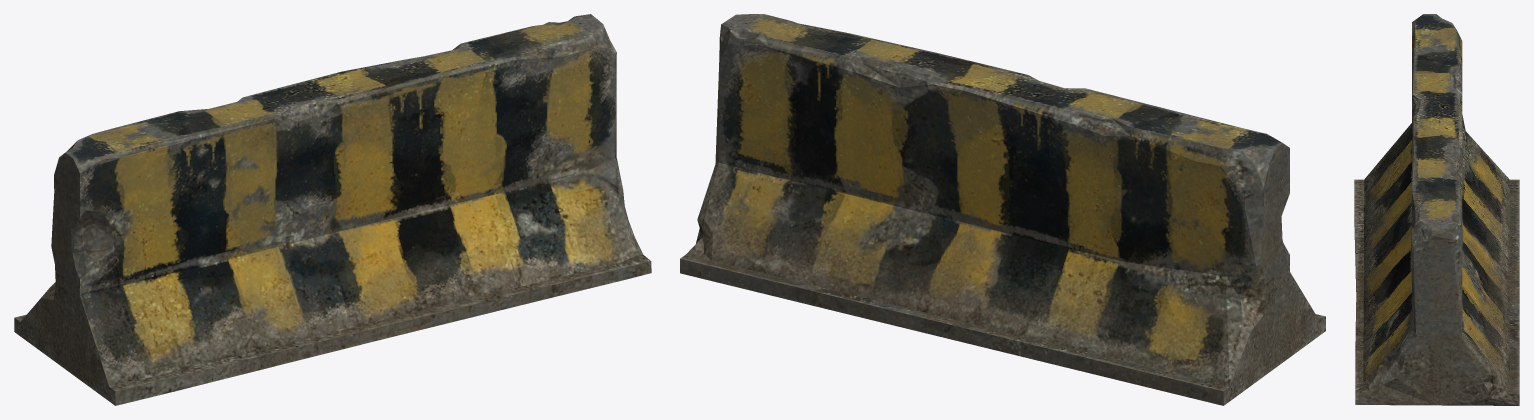
The model's file is concretebarrier.obj.
3 views of the same model, side by side, from view 1: azimuth 30°, elevation 25°; view 2: azimuth 150°, elevation 25°; view 3: azimuth 270°, elevation 25° (orthographic). The views are drawn at different scales.
Parts seen in each view (by area): view 1: concrete_barrier_02; view 2: concrete_barrier_02; view 3: concrete_barrier_02.
Part boxes in pixels (box(x1,y1,x2,y2)): concrete_barrier_02: box(14, 14, 651, 405); concrete_barrier_02: box(680, 14, 1325, 405); concrete_barrier_02: box(1354, 14, 1519, 405).
Size of the model in its own units: 106 by 40.58 by 34.33.
